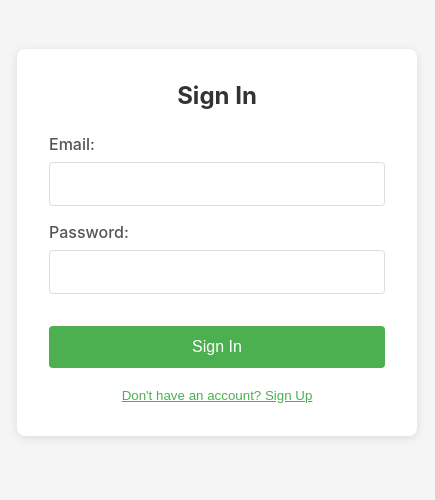
Test case: Login Component › shows the registration form when the mode is toggled
Note: Click the button to switch to register mode
Click the button "Don't have an account? Sign Up": (217, 395) [122,388,312,402]
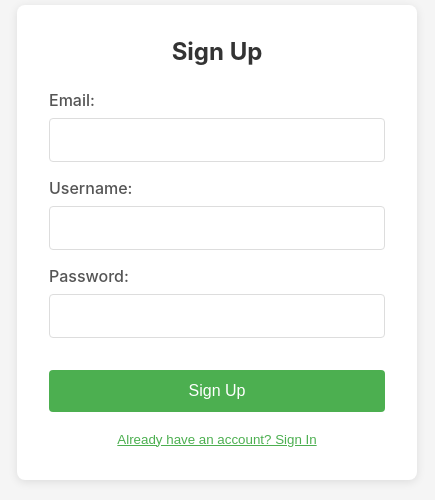
expect the heading "Sign Up" is shown: met, box [172,36,262,66]
expect the field labelled "Username:" is shown: met, box [49,206,385,250]
